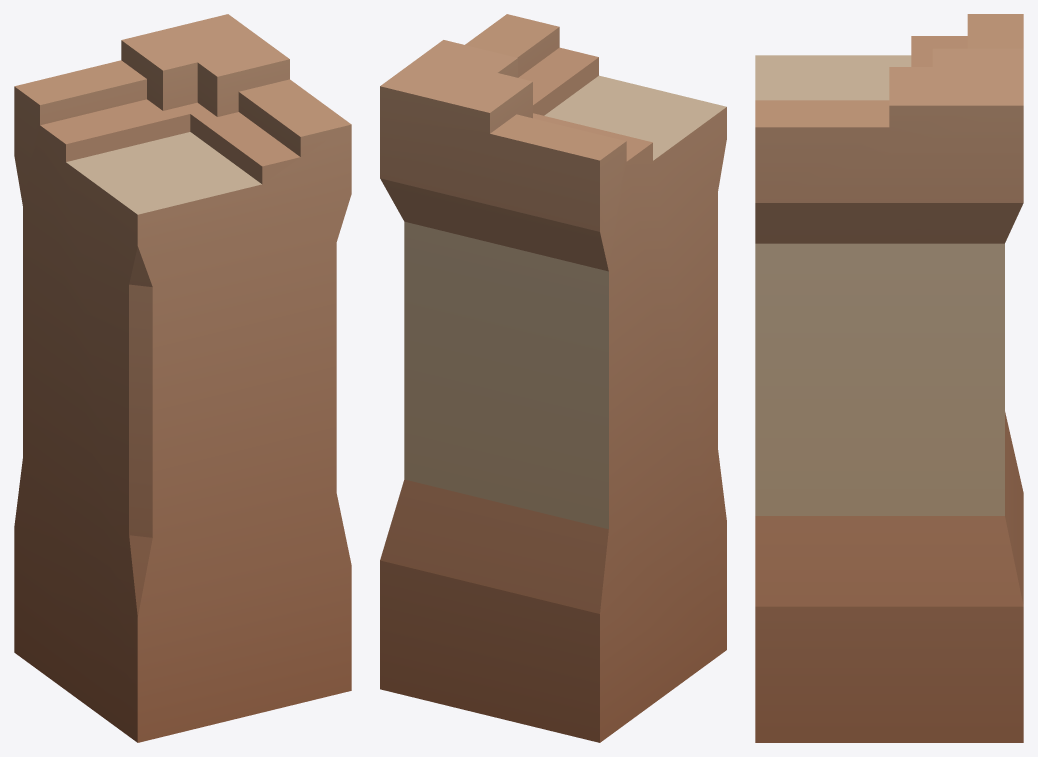
Rendered from wall-narrow-corner.glb.
3 renders of one model, left to right at view 1: azimuth 30°, elevation 25°; view 2: azimuth 150°, elevation 25°; view 3: azimuth 270°, elevation 25°, orthographic. The views are drawn at different scales.
Parts seen in each view (by area): view 1: wall-narrow-corner; view 2: wall-narrow-corner; view 3: wall-narrow-corner.
Boxes of the visible parts, x1=… form: wall-narrow-corner: x1=14, y1=14, x2=351, y2=742; wall-narrow-corner: x1=380, y1=14, x2=726, y2=742; wall-narrow-corner: x1=755, y1=14, x2=1023, y2=742.
Size of the model in its own units: 0.5 by 1.31 by 0.5.
